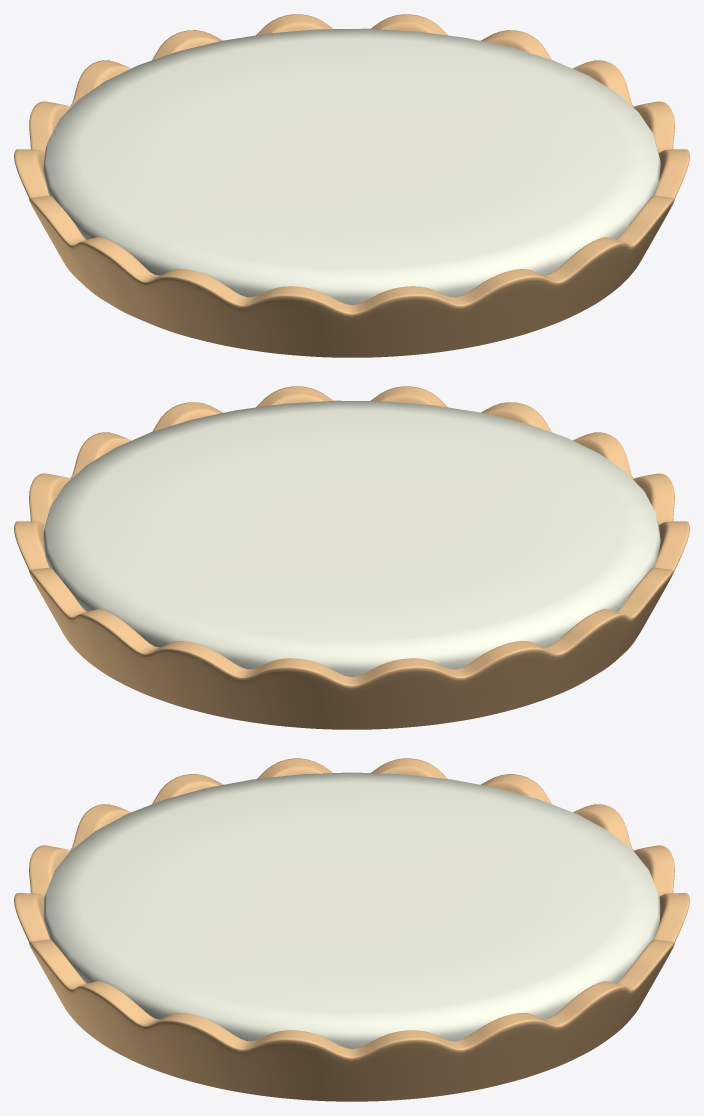
File: trat.FBX
3 renders of one model, top to bottom at view 1: azimuth 30°, elevation 25°; view 2: azimuth 150°, elevation 25°; view 3: azimuth 270°, elevation 25°, orthographic.
Parts seen in each view (by area): view 1: Cylinder004; view 2: Cylinder004; view 3: Cylinder004.
Part boxes in pixels (bbox=[...]): Cylinder004: bbox=[14, 14, 689, 357]; Cylinder004: bbox=[14, 386, 689, 729]; Cylinder004: bbox=[14, 758, 689, 1101].
Bounding box in the file's own units: 991 × 132 × 1003.
